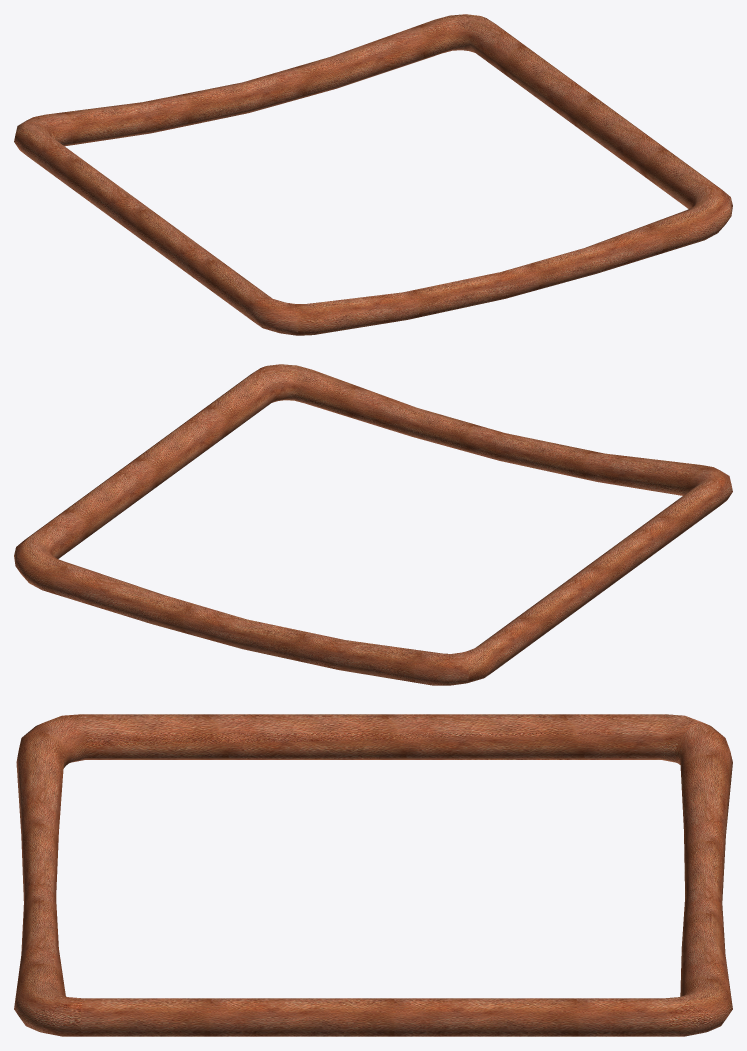
File: langan.FBX
3 renders of one model, top to bottom at view 1: azimuth 30°, elevation 25°; view 2: azimuth 150°, elevation 25°; view 3: azimuth 270°, elevation 25°, orthographic. The views are drawn at different scales.
Visible parts, largest first — view 1: Object044; view 2: Object044; view 3: Object044.
Part boxes in pixels (box(x1,y1,x2,y2)): Object044: box(14, 14, 732, 335); Object044: box(14, 364, 732, 685); Object044: box(14, 714, 732, 1036).
Size of the model in its own units: 79.14 by 7.26 by 80.36.
